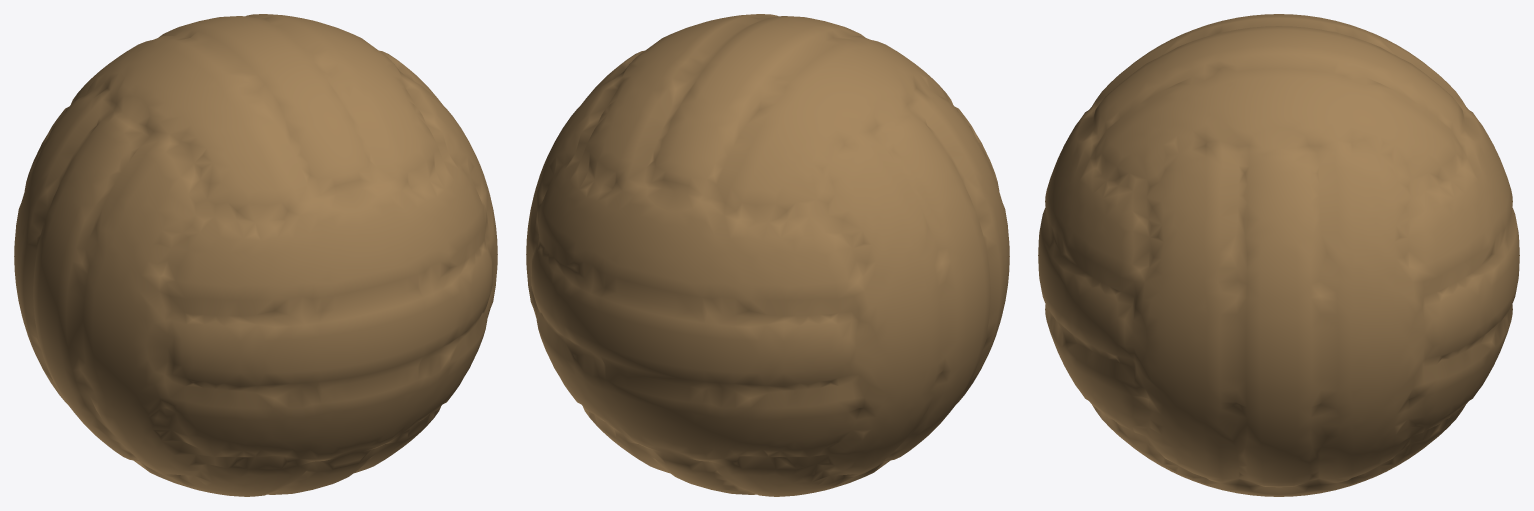
Rendered from vintage_ball.glb.
The picture shows the model from 3 angles, left to right: view 1: azimuth 30°, elevation 25°; view 2: azimuth 150°, elevation 25°; view 3: azimuth 270°, elevation 25°; orthographic projection.
Visible parts, largest first — view 1: world; view 2: world; view 3: world.
Part boxes in pixels (x1=…): world: x1=14, y1=14, x2=497, y2=496; world: x1=526, y1=14, x2=1009, y2=496; world: x1=1038, y1=14, x2=1519, y2=496.
Size of the model in its own units: 1.99 by 1.99 by 1.99.
